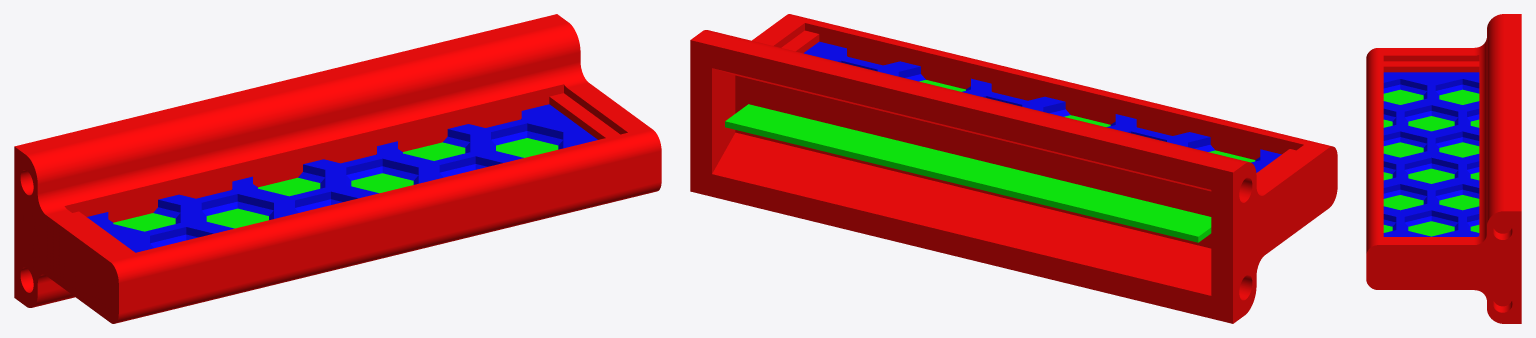
Rendered from shieldwall_straight_hex.gltf.
3 renders of one model, left to right at view 1: azimuth 30°, elevation 25°; view 2: azimuth 150°, elevation 25°; view 3: azimuth 270°, elevation 25°, orthographic. The views are drawn at different scales.
Visible parts, largest first — view 1: frame_part, mesh_part, window_part; view 2: frame_part, window_part, mesh_part; view 3: frame_part, mesh_part, window_part.
Part boxes in pixels (left/top/right/bottom): frame_part: left=14, top=14, right=661, bottom=323; mesh_part: left=87, top=104, right=597, bottom=252; window_part: left=113, top=138, right=558, bottom=231; frame_part: left=690, top=14, right=1337, bottom=323; window_part: left=725, top=80, right=1255, bottom=242; mesh_part: left=804, top=41, right=1281, bottom=172; frame_part: left=1366, top=14, right=1521, bottom=323; mesh_part: left=1383, top=72, right=1479, bottom=236; window_part: left=1383, top=89, right=1479, bottom=236.
Size of the model in its own units: 75 by 20 by 25.
